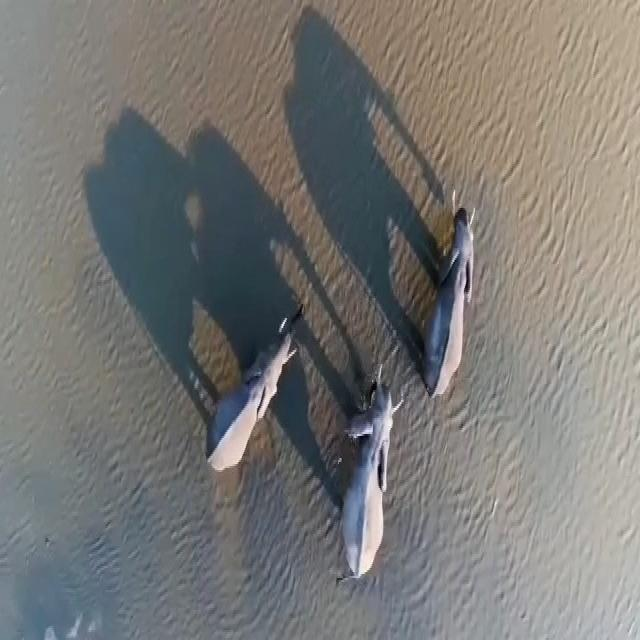Elephant: (200, 313, 299, 484), (336, 366, 404, 573), (424, 210, 486, 406)
